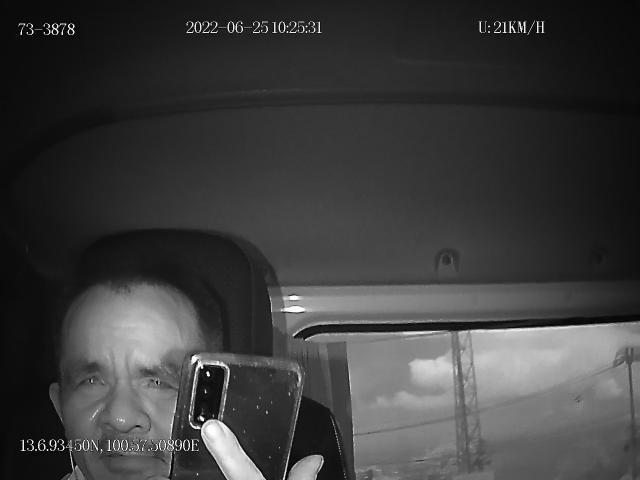PhoneUse: (170, 350, 302, 480)
SafeDriving: (69, 362, 113, 398), (134, 364, 180, 398)
